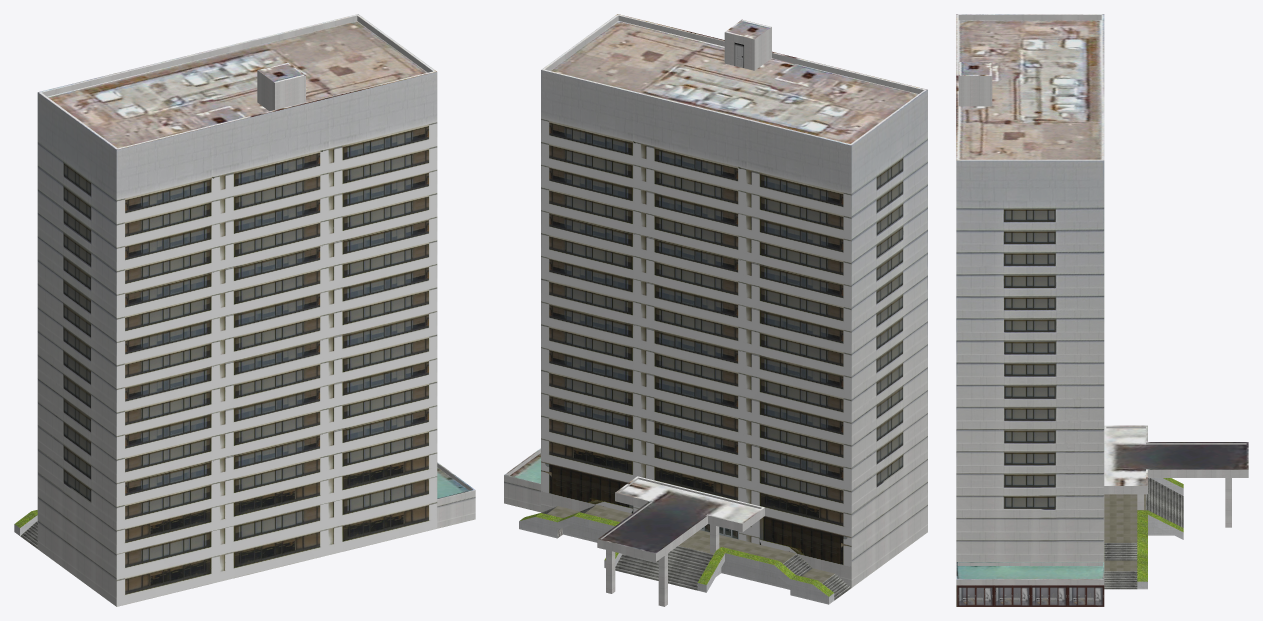
The model's file is 3d_building.glb.
3 renders of one model, left to right at view 1: azimuth 30°, elevation 25°; view 2: azimuth 150°, elevation 25°; view 3: azimuth 270°, elevation 25°, orthographic. The views are drawn at different scales.
Parts seen in each view (by area): view 1: JKT_MTP_61.001, JKT_MTP_61.012, JKT_MTP_61.005; view 2: JKT_MTP_61.001, JKT_MTP_61, JKT_MTP_61.002, JKT_MTP_61.003, JKT_MTP_61.012, JKT_MTP_61.005, JKT_MTP_61.007; view 3: JKT_MTP_61.001, JKT_MTP_61, JKT_MTP_61.005, JKT_MTP_61.002, JKT_MTP_61.012, JKT_MTP_61.007.
Boxes of the visible parts, x1,y1,x2,y2 form: JKT_MTP_61.001: [37, 14, 437, 606]; JKT_MTP_61.012: [257, 62, 305, 111]; JKT_MTP_61.005: [437, 462, 475, 528]; JKT_MTP_61.001: [541, 14, 927, 587]; JKT_MTP_61: [597, 476, 764, 561]; JKT_MTP_61.002: [541, 505, 850, 600]; JKT_MTP_61.003: [697, 547, 834, 604]; JKT_MTP_61.012: [724, 19, 771, 70]; JKT_MTP_61.005: [504, 448, 540, 512]; JKT_MTP_61.007: [519, 512, 622, 568]; JKT_MTP_61.001: [956, 14, 1104, 561]; JKT_MTP_61: [1104, 425, 1248, 494]; JKT_MTP_61.005: [956, 562, 1104, 606]; JKT_MTP_61.002: [1104, 478, 1183, 589]; JKT_MTP_61.012: [958, 62, 992, 106]; JKT_MTP_61.007: [1137, 510, 1183, 589].
Bounding box in the file's own units: 40.39 × 52.04 × 30.41.
Materials: 1 (1 with a texture image).
